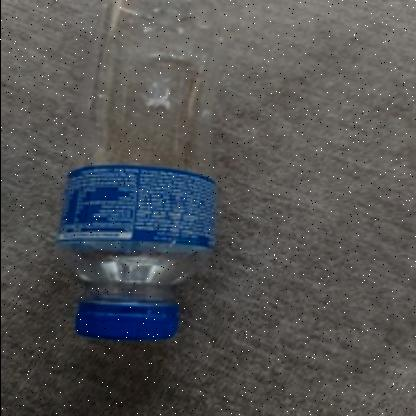Plastic Bottle: (42, 2, 264, 356)
